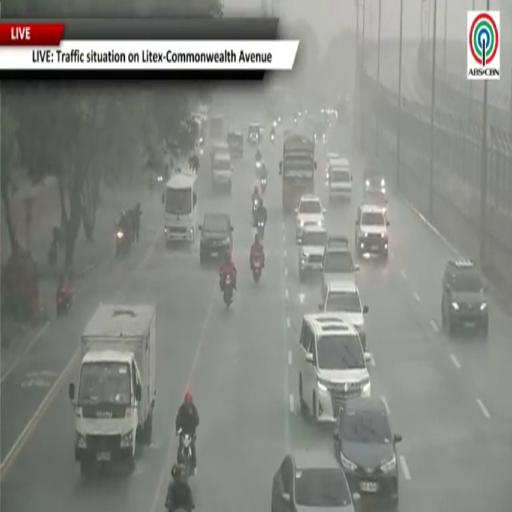car: (297, 313, 371, 422), (334, 397, 401, 507), (271, 451, 360, 511), (442, 260, 488, 337), (319, 282, 368, 350), (322, 237, 359, 295), (355, 205, 389, 258), (199, 214, 233, 265), (298, 226, 327, 282), (295, 195, 326, 244), (328, 158, 352, 200), (212, 154, 233, 193), (357, 192, 387, 217), (364, 173, 386, 197), (325, 153, 340, 181), (227, 132, 243, 157), (211, 142, 229, 163), (313, 119, 327, 143), (248, 123, 261, 145)
motorcycle: (177, 429, 193, 476), (116, 226, 131, 255), (56, 291, 73, 315), (224, 275, 233, 309), (48, 239, 58, 267), (252, 256, 262, 283), (252, 199, 258, 226), (257, 219, 264, 239), (260, 178, 266, 194), (156, 174, 164, 184), (256, 159, 261, 170), (270, 134, 275, 142), (294, 118, 297, 124)
truck: (69, 304, 156, 476), (280, 132, 316, 213), (163, 170, 197, 246), (210, 115, 225, 142)
